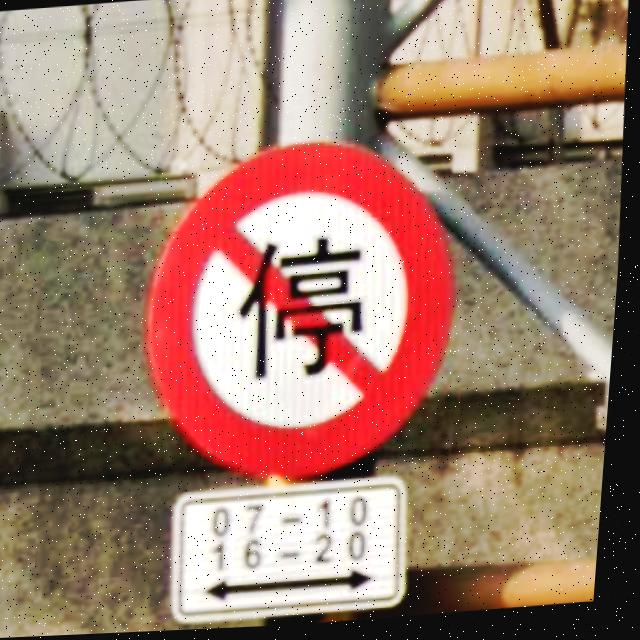nopark: (130, 128, 477, 493)
